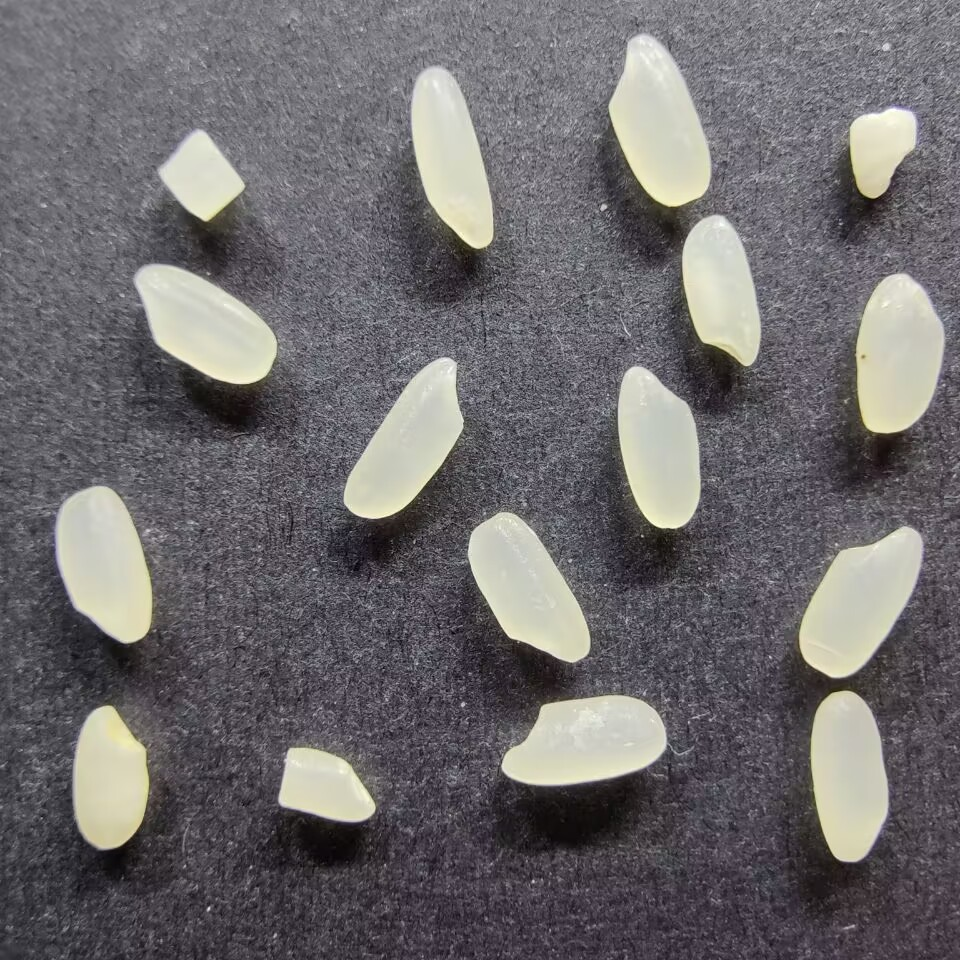broken: (155, 125, 245, 224), (276, 745, 377, 824), (847, 106, 918, 199)
rice: (341, 354, 466, 520), (798, 522, 924, 680), (465, 510, 592, 665), (606, 32, 713, 208), (132, 261, 278, 386), (408, 64, 495, 251), (53, 484, 153, 645), (499, 693, 668, 787), (852, 270, 946, 434), (807, 689, 891, 864), (615, 363, 701, 530), (680, 213, 762, 367), (69, 701, 151, 851)
